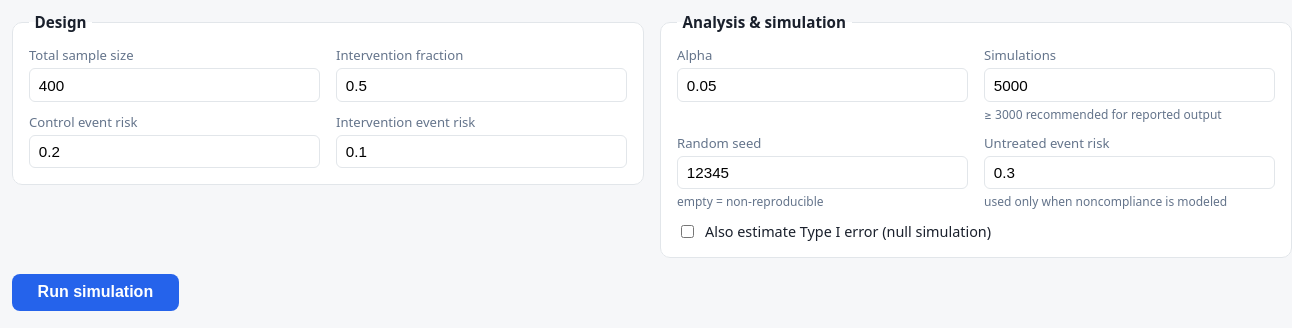
Test: QuickTrial › highlights the offending field on a 422 validation error
Step 1. Click the button with test id "run-button" → (95, 292), box x1=12 y1=274 x2=179 y2=311
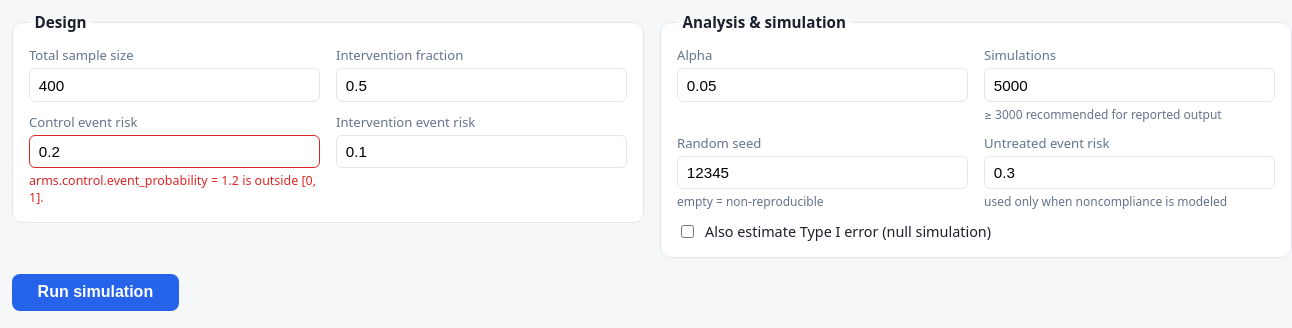
Now the message shows "outside [0, 1]", box x1=29 y1=172 x2=316 y2=206
